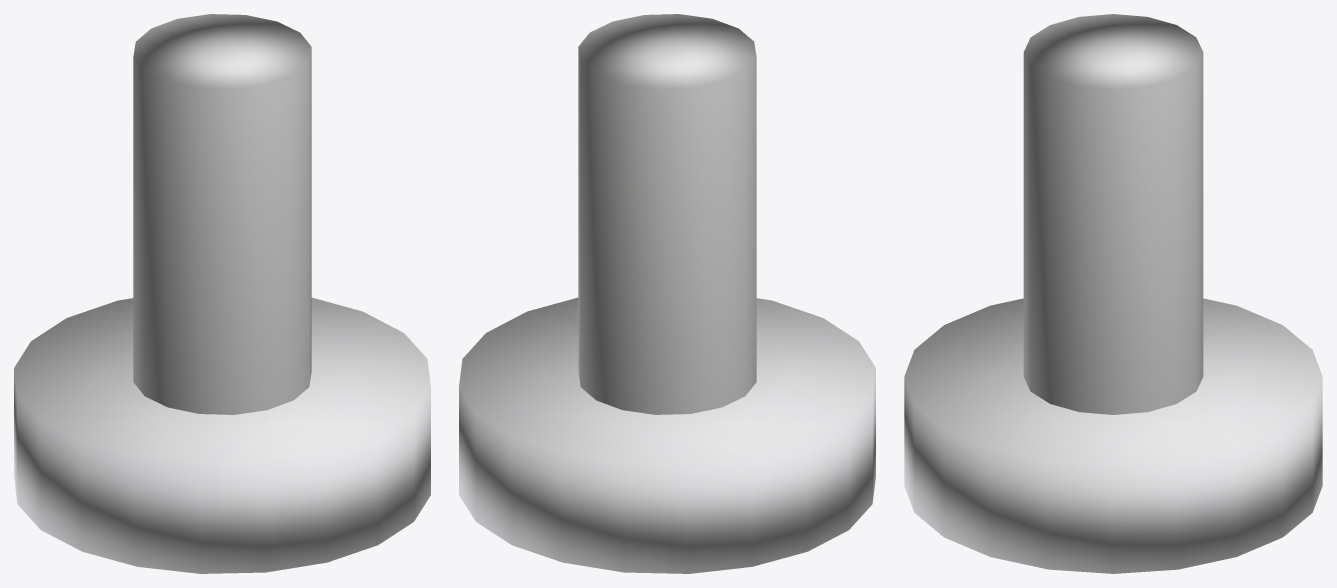
The model's file is SM_Antenne_Mat.glb.
3 renders of one model, left to right at view 1: azimuth 30°, elevation 25°; view 2: azimuth 150°, elevation 25°; view 3: azimuth 270°, elevation 25°, orthographic.
Bounding box in the file's own units: 1.75 × 2 × 1.75.
1 material, 1 textured.
